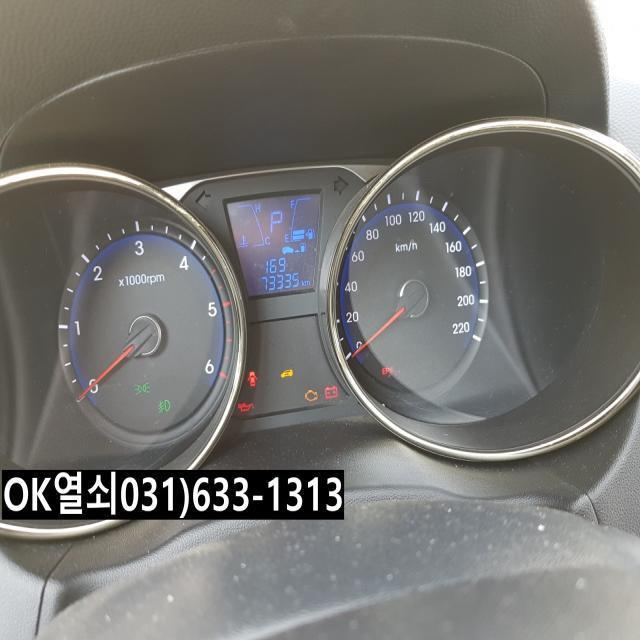Doors: (246, 369, 258, 387)
FrontFogLight: (156, 398, 170, 413)
SideLamp: (132, 380, 150, 394)
